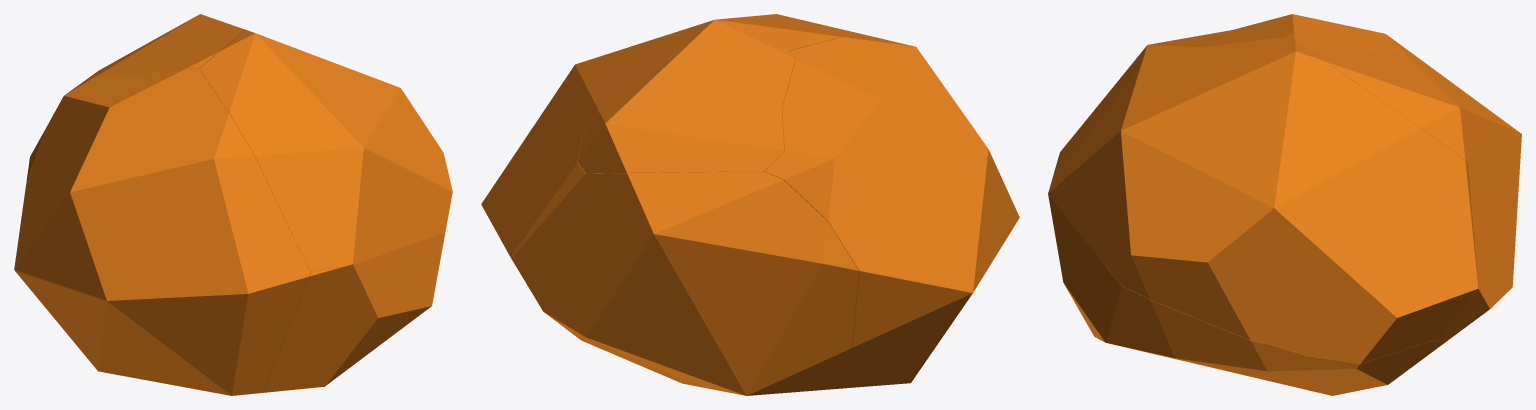
File: DesertRock1Crack.fbx
3 renders of one model, left to right at view 1: azimuth 30°, elevation 25°; view 2: azimuth 150°, elevation 25°; view 3: azimuth 270°, elevation 25°, orthographic. The views are drawn at different scales.
Visible parts, largest first — view 1: DesertRock1Crack_cell.003, DesertRock1Crack_cell.002, DesertRock1Crack_cell, DesertRock1Crack_cell.004; view 2: DesertRock1Crack_cell.001, DesertRock1Crack_cell.003, DesertRock1Crack_cell.004, DesertRock1Crack_cell.002, DesertRock1Crack_cell; view 3: DesertRock1Crack_cell.002, DesertRock1Crack_cell, DesertRock1Crack_cell.001, DesertRock1Crack_cell.004, DesertRock1Crack_cell.003.
Part boxes in pixels (x1,y1,x2,y2): DesertRock1Crack_cell.003: [14, 68, 310, 395]; DesertRock1Crack_cell.002: [199, 29, 452, 271]; DesertRock1Crack_cell: [263, 232, 445, 392]; DesertRock1Crack_cell.004: [90, 14, 244, 78]; DesertRock1Crack_cell.001: [511, 171, 859, 395]; DesertRock1Crack_cell.003: [670, 37, 1019, 390]; DesertRock1Crack_cell.004: [577, 39, 795, 173]; DesertRock1Crack_cell.002: [481, 14, 877, 258]; DesertRock1Crack_cell: [565, 328, 694, 385]; DesertRock1Crack_cell.002: [1048, 37, 1478, 363]; DesertRock1Crack_cell: [1048, 174, 1438, 395]; DesertRock1Crack_cell.001: [1425, 63, 1521, 350]; DesertRock1Crack_cell.004: [1285, 33, 1487, 162]; DesertRock1Crack_cell.003: [1053, 14, 1425, 176].
Bounding box in the file's own units: 336 × 255 × 324.
